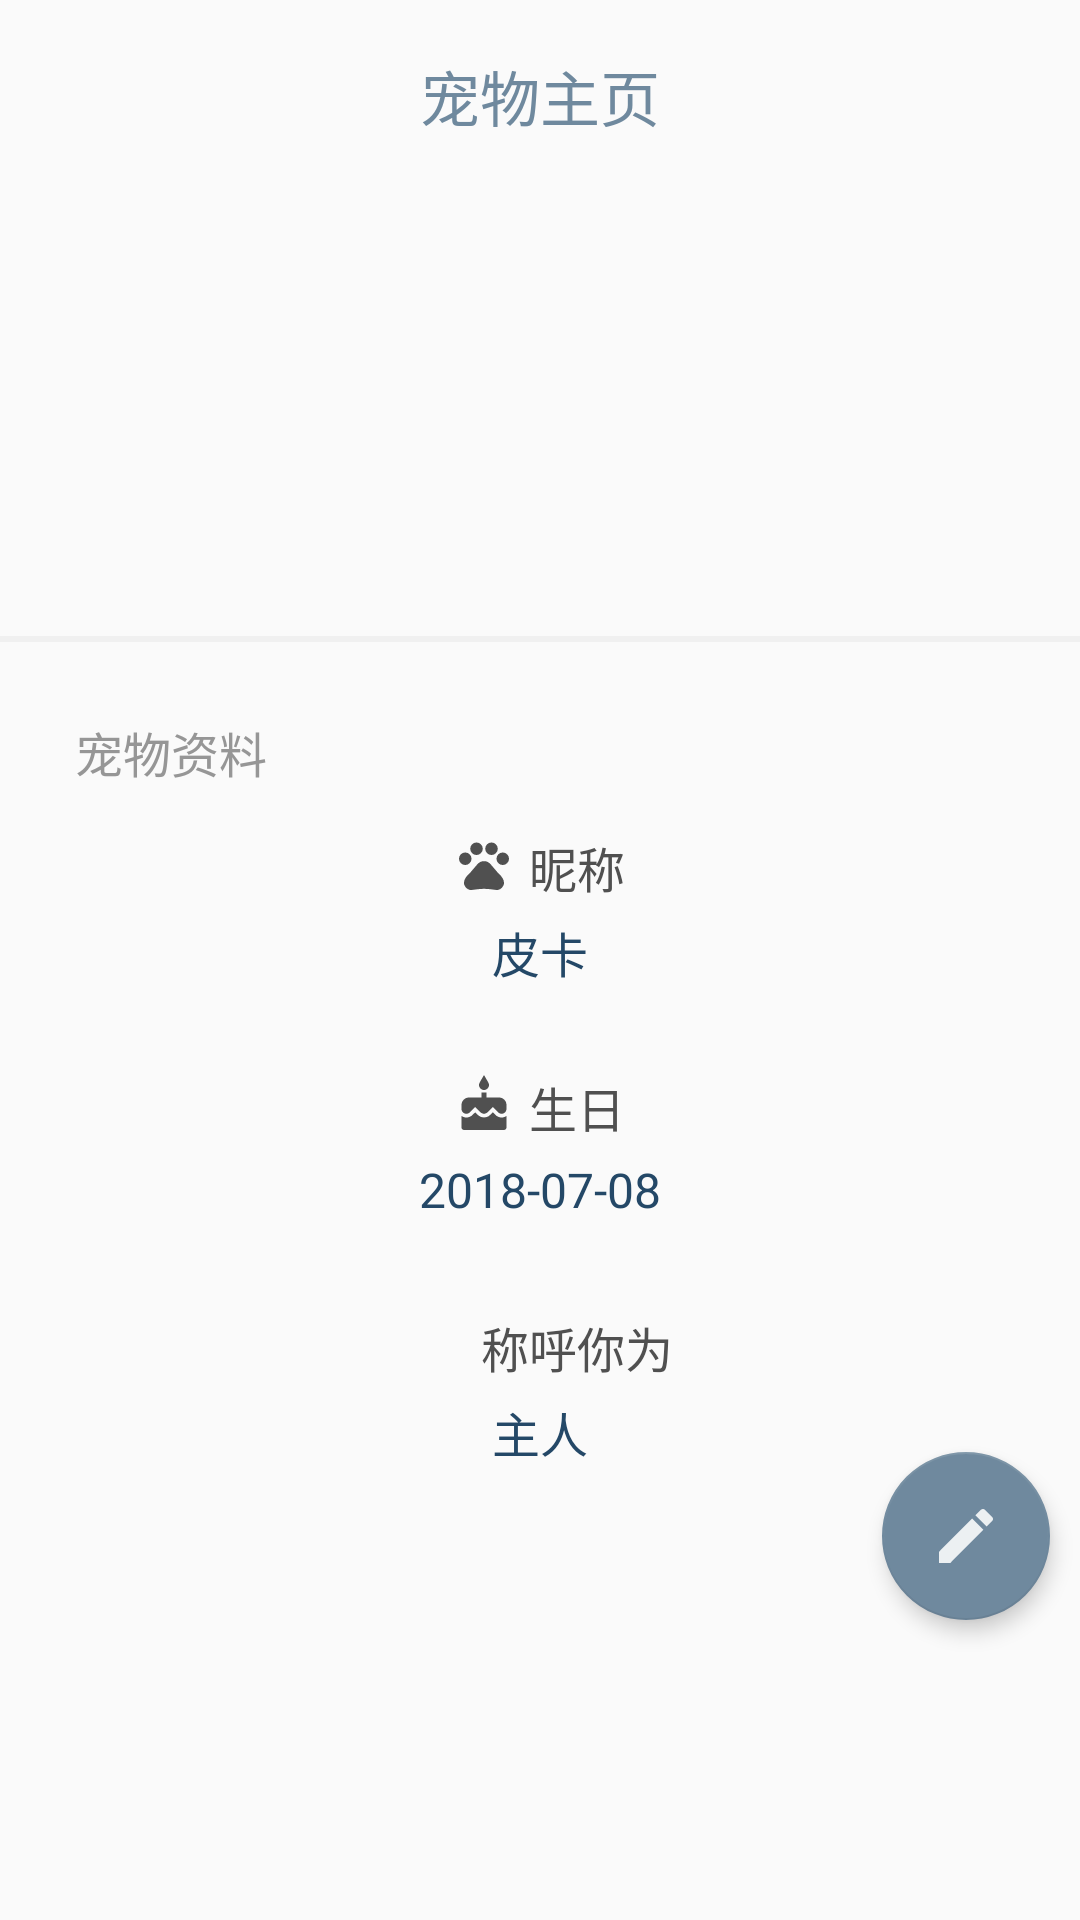

Locate icon controls on the screen. Image size 1080*1920, boxes as (x1, y1, x2, y2).
alarm item edit: (882, 1452, 1050, 1620)
birthday: (461, 1075, 507, 1130)
pets: (459, 842, 509, 890)
